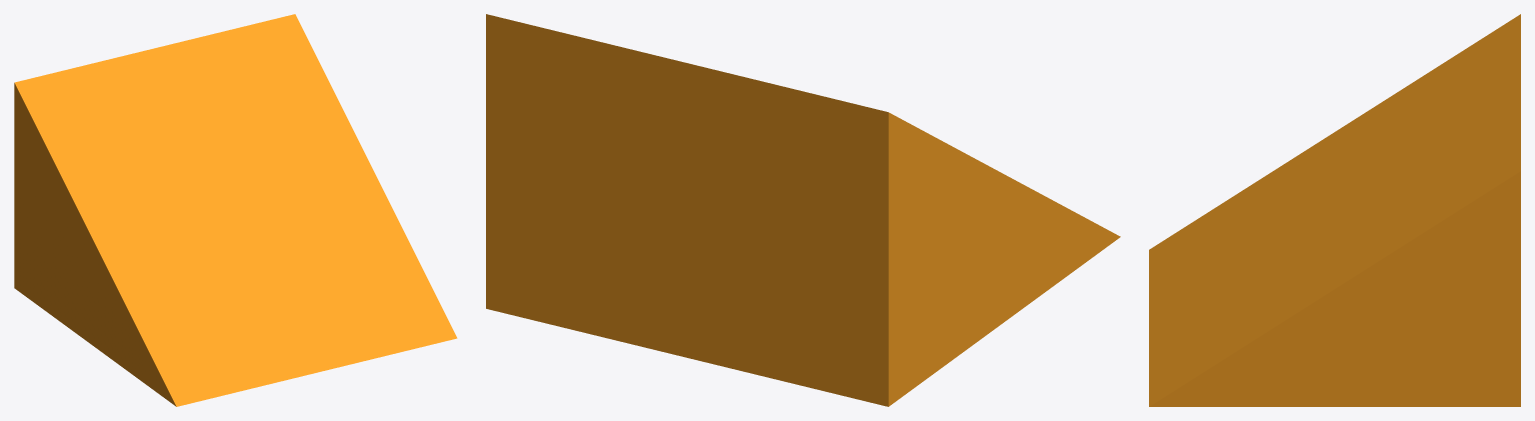
The model's file is SM_Buildings_Ramp_35_1x1_01.fbx.
3 views of the same model, side by side, from view 1: azimuth 30°, elevation 25°; view 2: azimuth 150°, elevation 25°; view 3: azimuth 270°, elevation 25° (orthographic). The views are drawn at different scales.
Parts seen in each view (by area): view 1: SM_Buildings_Ramp_35_1x1_01; view 2: SM_Buildings_Ramp_35_1x1_01; view 3: SM_Buildings_Ramp_35_1x1_01.
Boxes of the visible parts, x1=… form: SM_Buildings_Ramp_35_1x1_01: x1=14, y1=14, x2=457, y2=406; SM_Buildings_Ramp_35_1x1_01: x1=486, y1=14, x2=1120, y2=406; SM_Buildings_Ramp_35_1x1_01: x1=1149, y1=14, x2=1520, y2=406.
Size of the model in its own units: 100 by 69.98 by 100.
